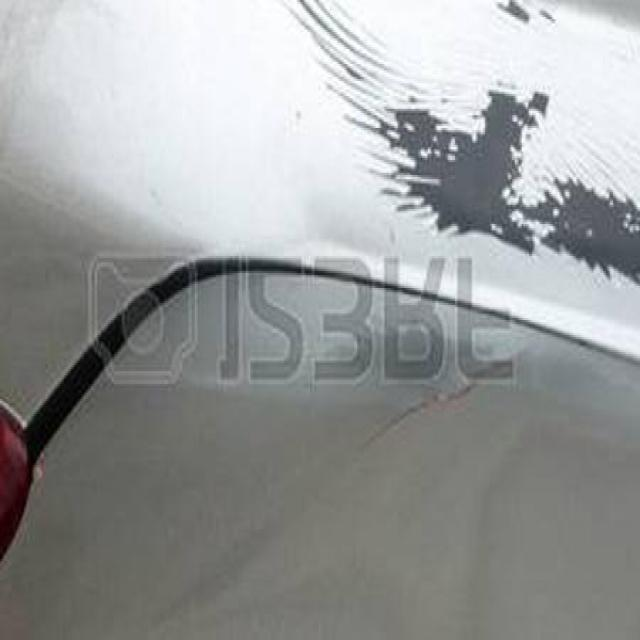scratch: (280, 4, 626, 297)
